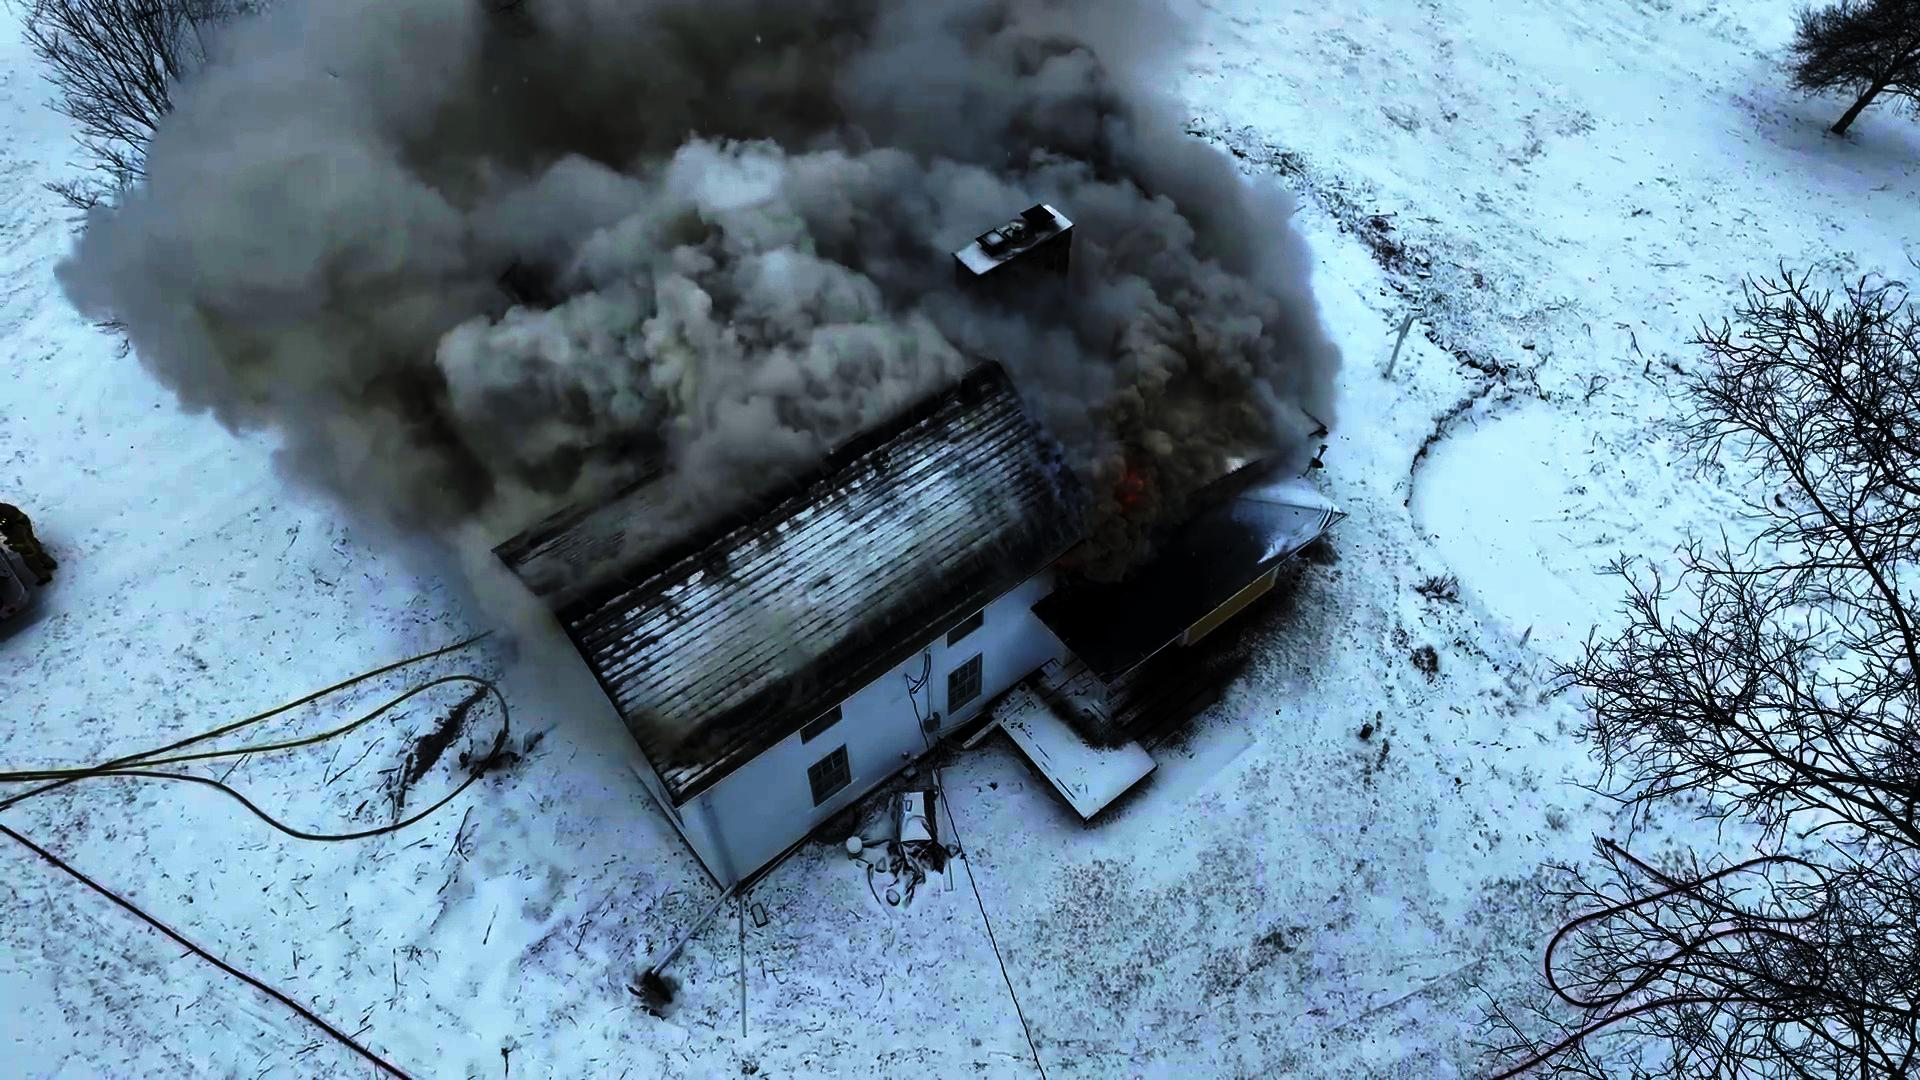smoke: (698, 142, 1141, 568)
